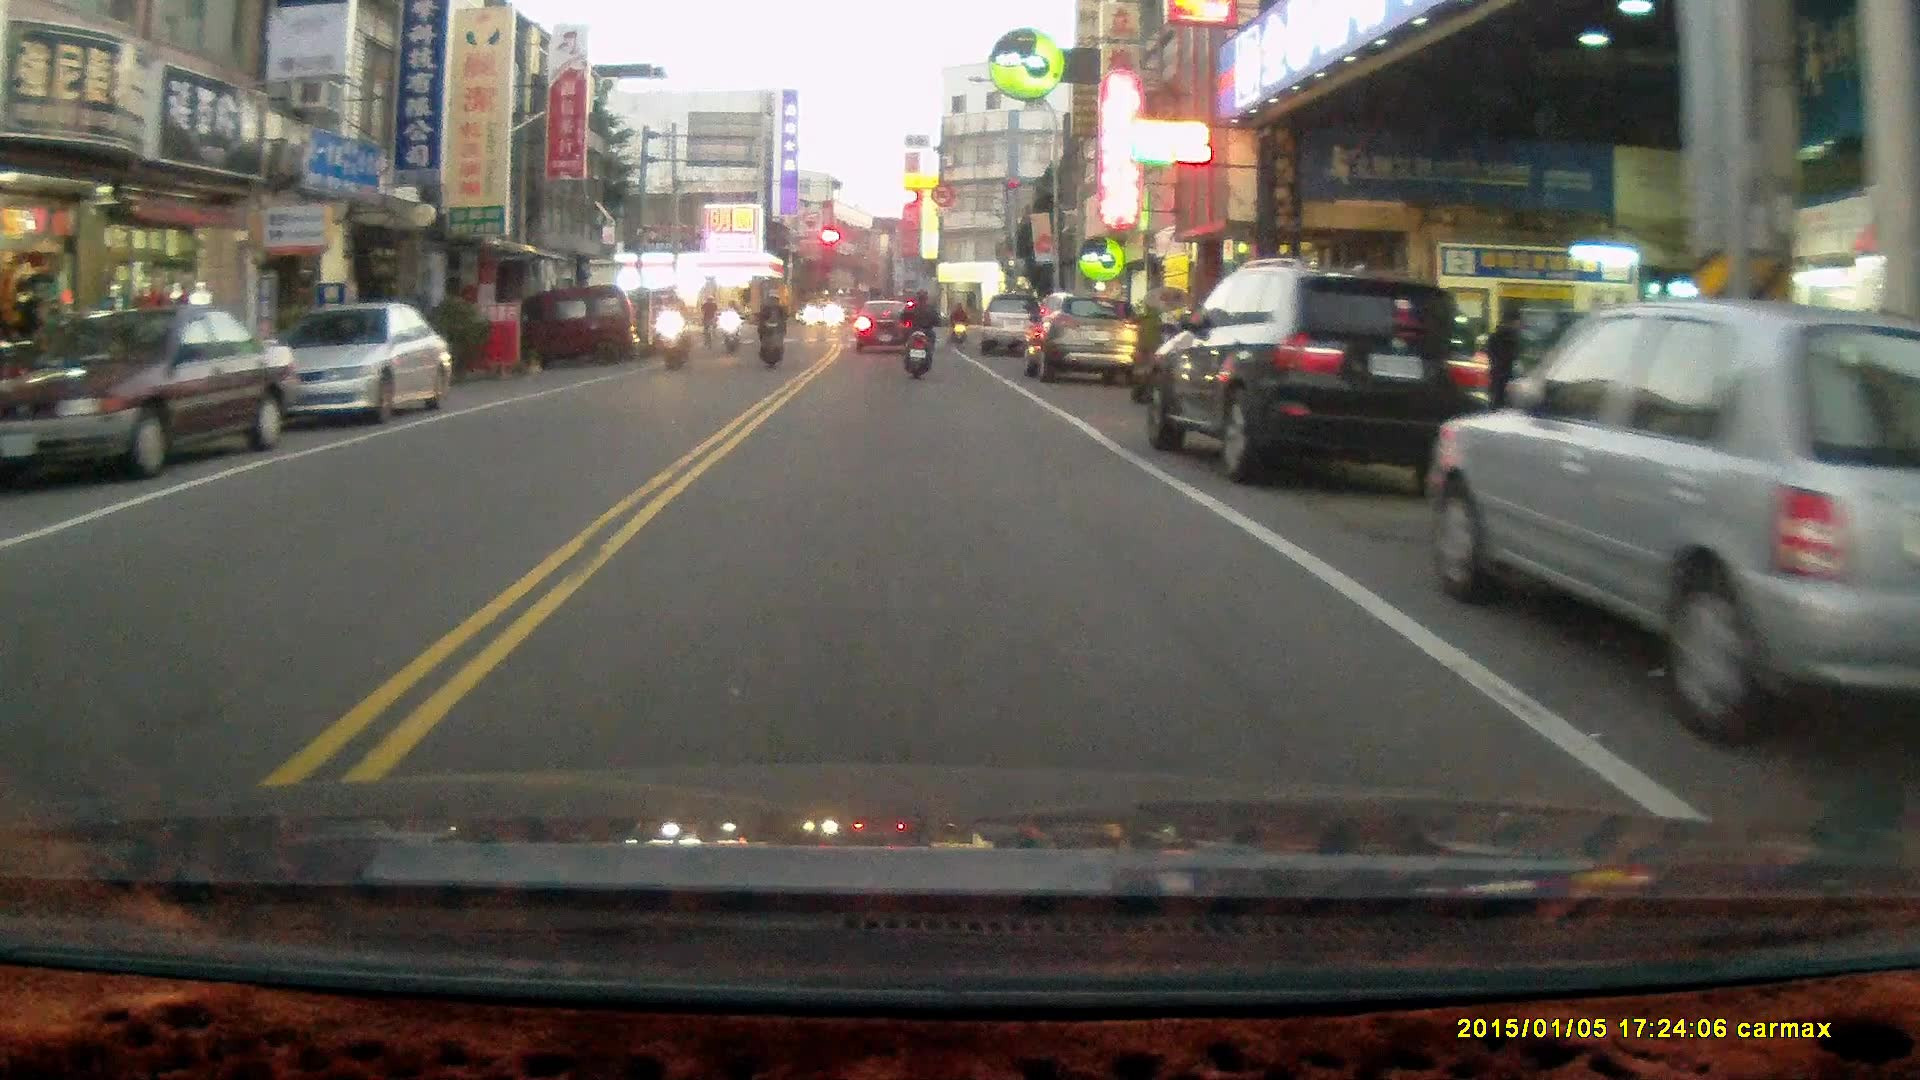pedestrian: (1483, 308, 1525, 442)
rider: (896, 286, 937, 380), (658, 291, 688, 372), (755, 291, 786, 369), (717, 295, 741, 352), (697, 291, 720, 351), (946, 299, 968, 344)
vehicle: (1429, 297, 1920, 754), (1150, 257, 1489, 487), (4, 302, 311, 481), (258, 301, 454, 428), (1021, 293, 1141, 380), (544, 284, 649, 358), (979, 290, 1055, 356)
